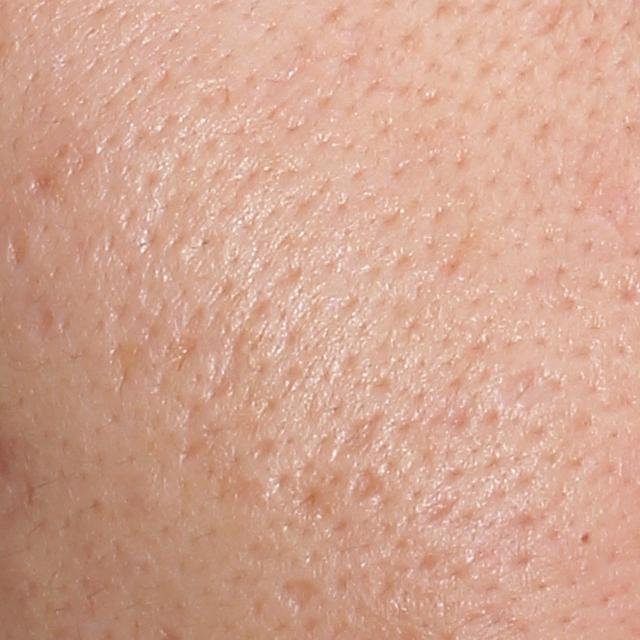atrophic_scar: (331, 406, 393, 463), (498, 366, 564, 414), (108, 341, 146, 407), (287, 478, 340, 523), (272, 573, 317, 615), (346, 463, 387, 509), (5, 227, 33, 271), (28, 167, 61, 196), (31, 306, 55, 343)
comedo: (575, 527, 597, 551)
